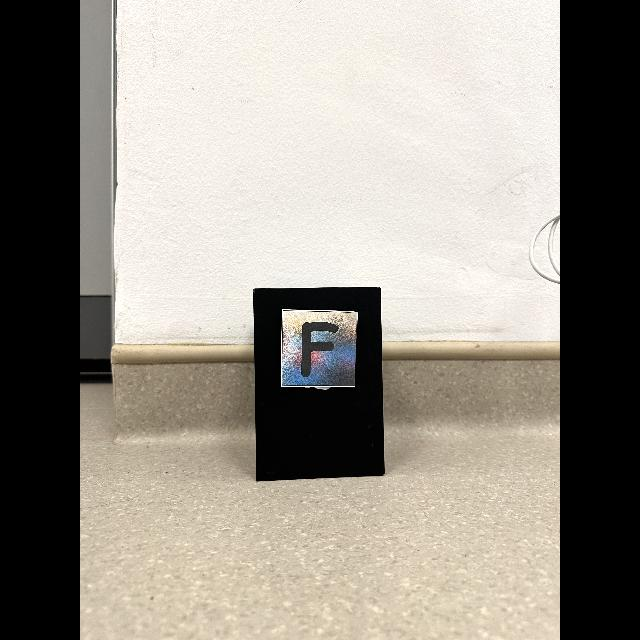F: (301, 322, 339, 377)
